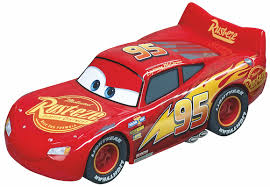mcqueen: (3, 1, 267, 186)
